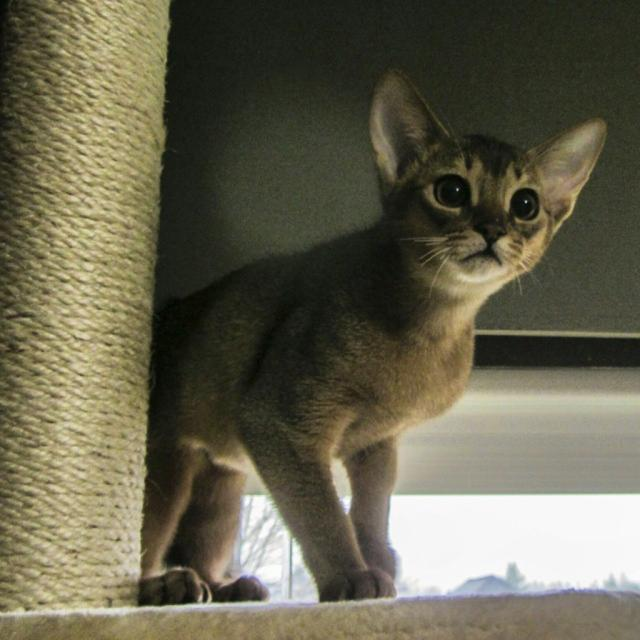Cat: (138, 64, 606, 606)
